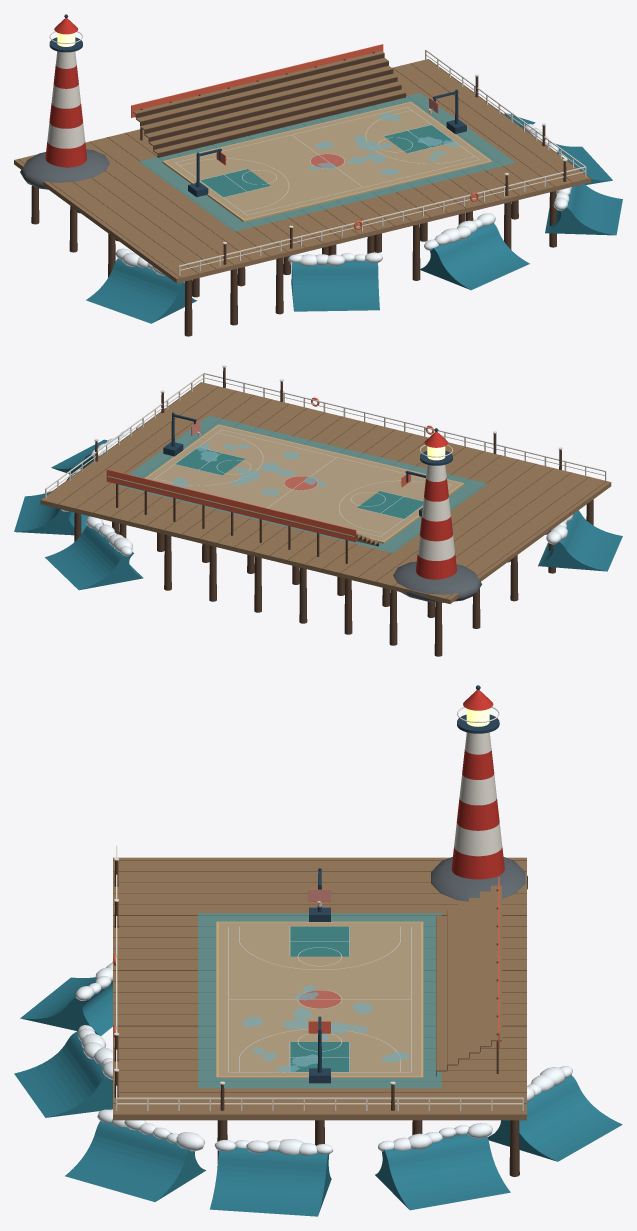
File: arena_tide.glb
3 views of the same model, one above another, from view 1: azimuth 30°, elevation 25°; view 2: azimuth 150°, elevation 25°; view 3: azimuth 270°, elevation 25° (orthographic). The views are drawn at different scales.
Visible parts, largest first — view 1: pier_deck, court_floor, court_variant_wet, hazard_tide, wave_04_crest, wave_05_crest, wave_06_crest, lighthouse, wave_03_crest, lighthouse_rocks, stand_backboard, stand_tier_02 (+20 smaller); view 2: pier_deck, court_variant_wet, court_floor, hazard_tide, lighthouse, wave_07_crest, stand_backboard, wave_06_crest, lighthouse_rocks, wave_01_crest, paint_key_home, paint_key_away (+12 smaller); view 3: pier_deck, court_variant_wet, court_floor, hazard_tide, wave_02_crest, wave_01_crest, wave_03_crest, lighthouse, wave_07_crest, wave_05_crest, wave_04_crest, lighthouse_rocks (+15 smaller).
Part boxes in pixels (box(x1,y1,x2,y2)): pier_deck: box(14, 59, 591, 283); court_floor: box(162, 101, 492, 222); court_variant_wet: box(166, 103, 488, 219); hazard_tide: box(139, 93, 515, 231); wave_04_crest: box(291, 260, 379, 311); wave_05_crest: box(419, 223, 529, 290); wave_06_crest: box(86, 258, 196, 323); lighthouse: box(45, 51, 86, 167); wave_03_crest: box(545, 184, 622, 235); lighthouse_rocks: box(20, 149, 109, 189); stand_backboard: box(131, 44, 383, 117); stand_tier_02: box(148, 81, 401, 145); pier_deck: box(40, 382, 611, 603); court_variant_wet: box(147, 425, 460, 540); court_floor: box(145, 424, 464, 543); hazard_tide: box(115, 415, 487, 552); lighthouse: box(416, 464, 456, 579); wave_07_crest: box(45, 523, 143, 590); stand_backboard: box(106, 469, 356, 542); wave_06_crest: box(538, 510, 622, 571); lighthouse_rocks: box(393, 561, 481, 602); wave_01_crest: box(14, 473, 89, 535); paint_key_home: box(357, 491, 423, 518); paint_key_away: box(175, 448, 244, 475); pier_deck: box(113, 857, 526, 1120); court_variant_wet: box(219, 922, 420, 1075); court_floor: box(216, 921, 423, 1078); hazard_tide: box(198, 913, 441, 1088); wave_02_crest: box(209, 1147, 331, 1216); wave_01_crest: box(375, 1134, 510, 1210); wave_03_crest: box(65, 1121, 205, 1201); lighthouse: box(451, 732, 504, 879); wave_07_crest: box(487, 1075, 622, 1161); wave_05_crest: box(14, 1031, 112, 1117); wave_04_crest: box(20, 977, 112, 1035); lighthouse_rocks: box(431, 857, 527, 901).
Size of what is drawn, in the model's own units: 63.92 by 24.75 by 50.01.
